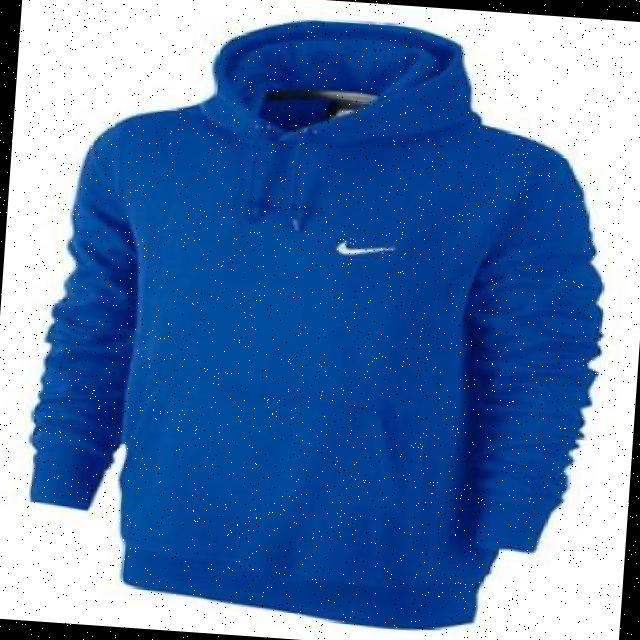Nike: (335, 237, 394, 256)
